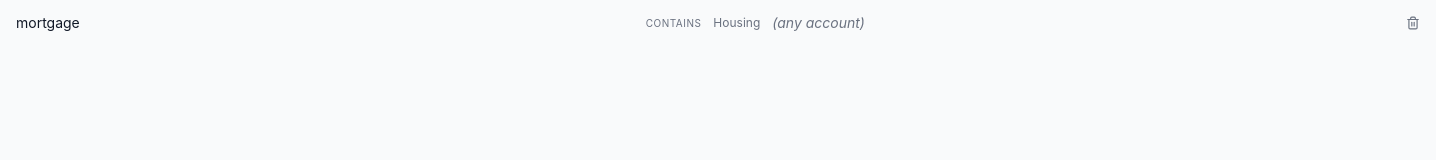
Test: <RuleRow> › surfaces a rename error when the mutation rejects
The image size is (1436, 160).
Click the button "mortgage" at (48, 22), box [12,10,630,34]
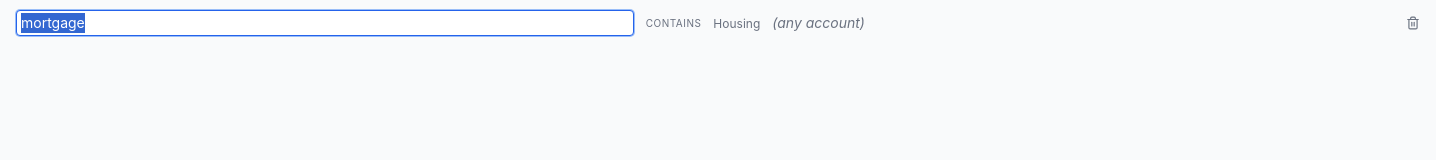
Replace the text in the field with "home loan" at (325, 23), box [16,10,634,36]
Then press Enter
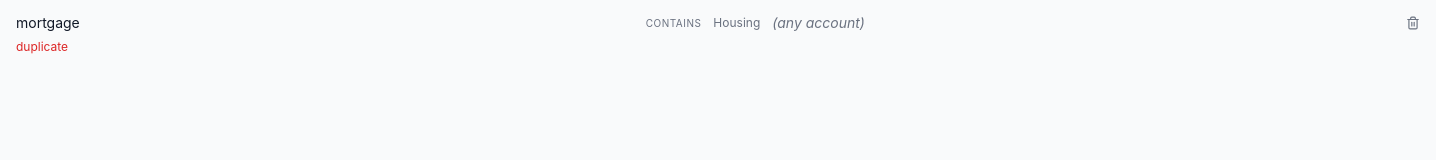
Now the text "duplicate" is shown, box [16,39,68,54]
